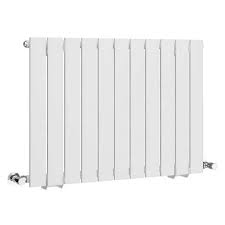Radiator: (10, 34, 219, 191)
